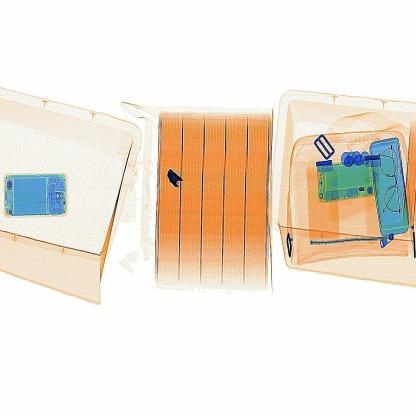pliers: (162, 156, 189, 207)
